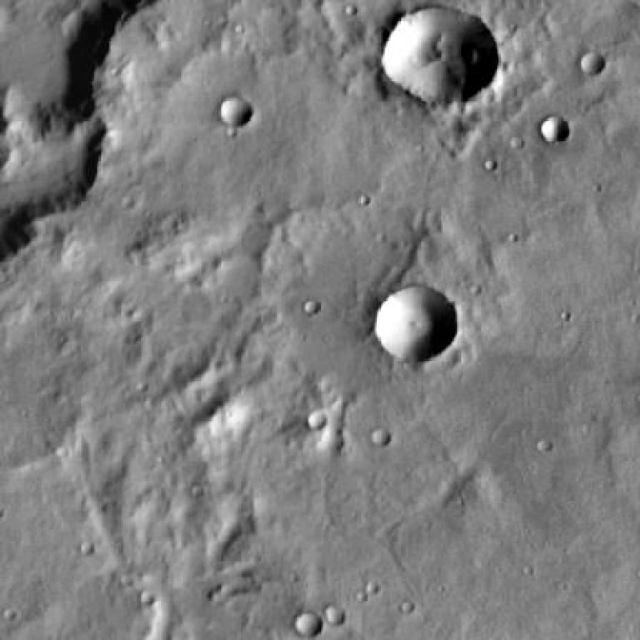crater: (386, 4, 494, 104), (375, 286, 460, 363), (218, 98, 250, 128), (538, 115, 568, 143), (580, 50, 603, 72)
